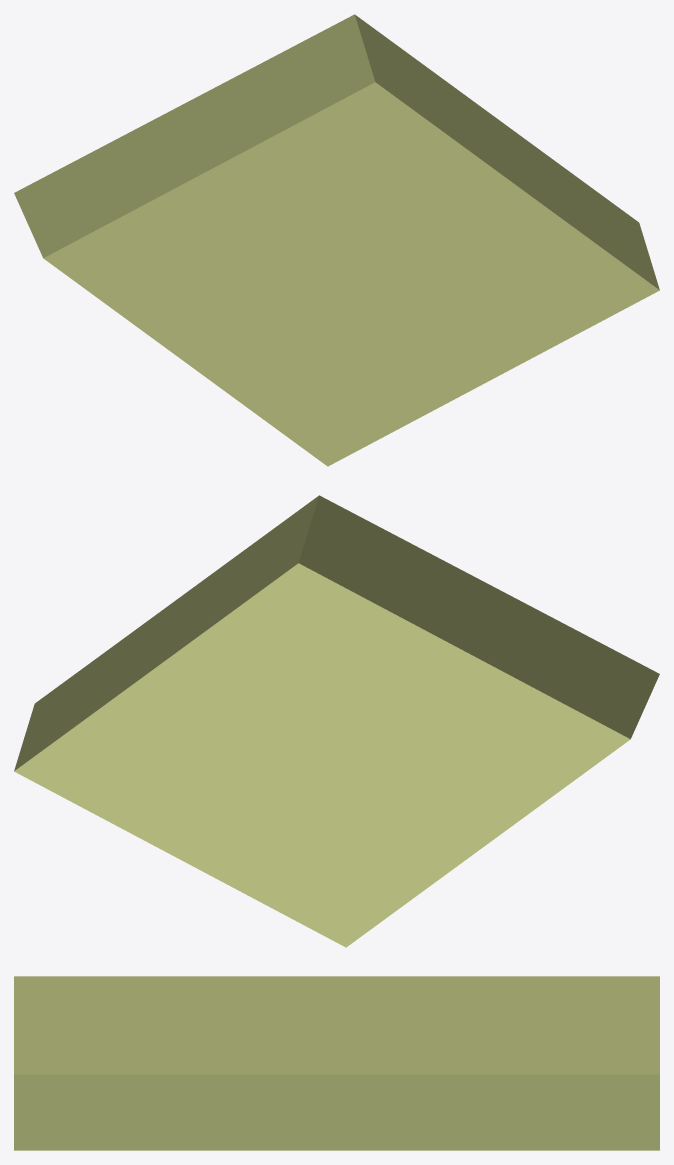
The picture shows the model from 3 angles, top to bottom: view 1: azimuth 30°, elevation 25°; view 2: azimuth 150°, elevation 25°; view 3: azimuth 270°, elevation 25°; orthographic projection. The views are drawn at different scales.
Parts seen in each view (by area): view 1: 0_2_0_1_1_2_1_1_0_2_1_1; view 2: 0_2_0_1_1_2_1_1_0_2_1_1; view 3: 0_2_0_1_1_2_1_1_0_2_1_1.
Part boxes in pixels (x1,y1,x2,y2): 0_2_0_1_1_2_1_1_0_2_1_1: (14,14,659,466); 0_2_0_1_1_2_1_1_0_2_1_1: (14,495,659,947); 0_2_0_1_1_2_1_1_0_2_1_1: (14,976,659,1150).
Size of the model in its own units: 4.4 by 1.95 by 6.
